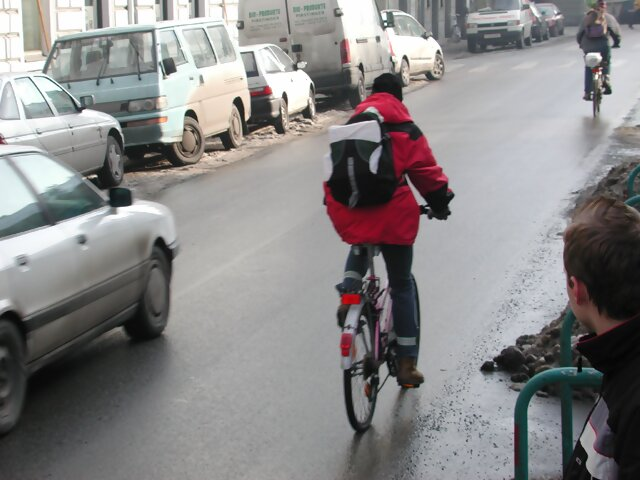person: (312, 64, 461, 389)
